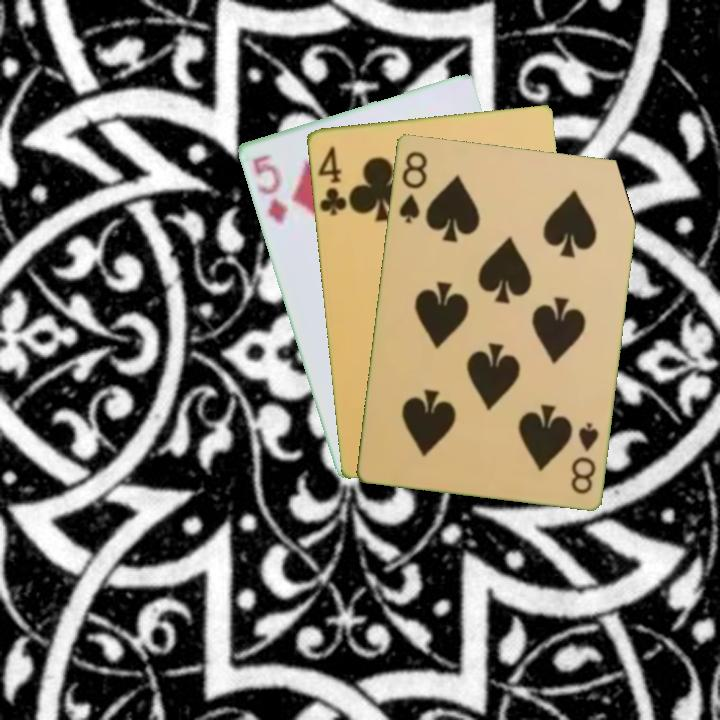4c: (314, 142, 349, 218)
5d: (249, 150, 291, 227)
8s: (395, 147, 430, 226), (567, 418, 601, 497)
